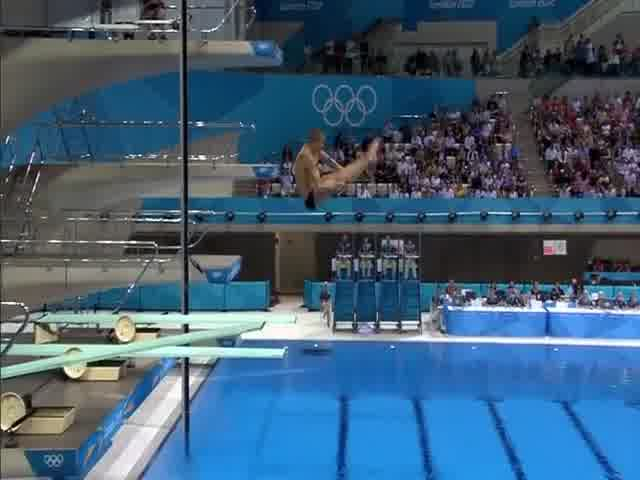diver: (292, 126, 382, 214)
